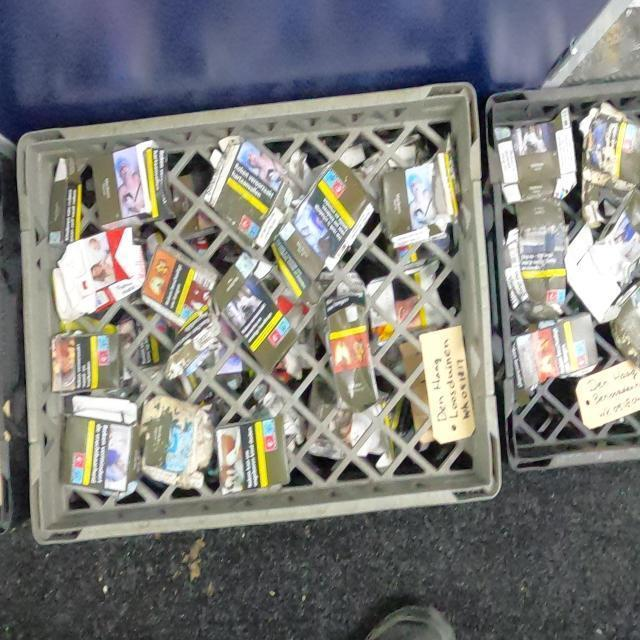Paper: (273, 160, 376, 300), (204, 133, 298, 256), (210, 253, 300, 375), (564, 190, 640, 322), (52, 227, 146, 322), (380, 150, 458, 258), (500, 202, 570, 312), (90, 139, 176, 228), (61, 398, 138, 488), (136, 398, 214, 486), (142, 240, 212, 330), (502, 120, 579, 201), (516, 318, 600, 387), (578, 98, 640, 190), (216, 417, 288, 494), (324, 311, 378, 408), (45, 332, 122, 392), (48, 154, 83, 245), (610, 280, 640, 370)
